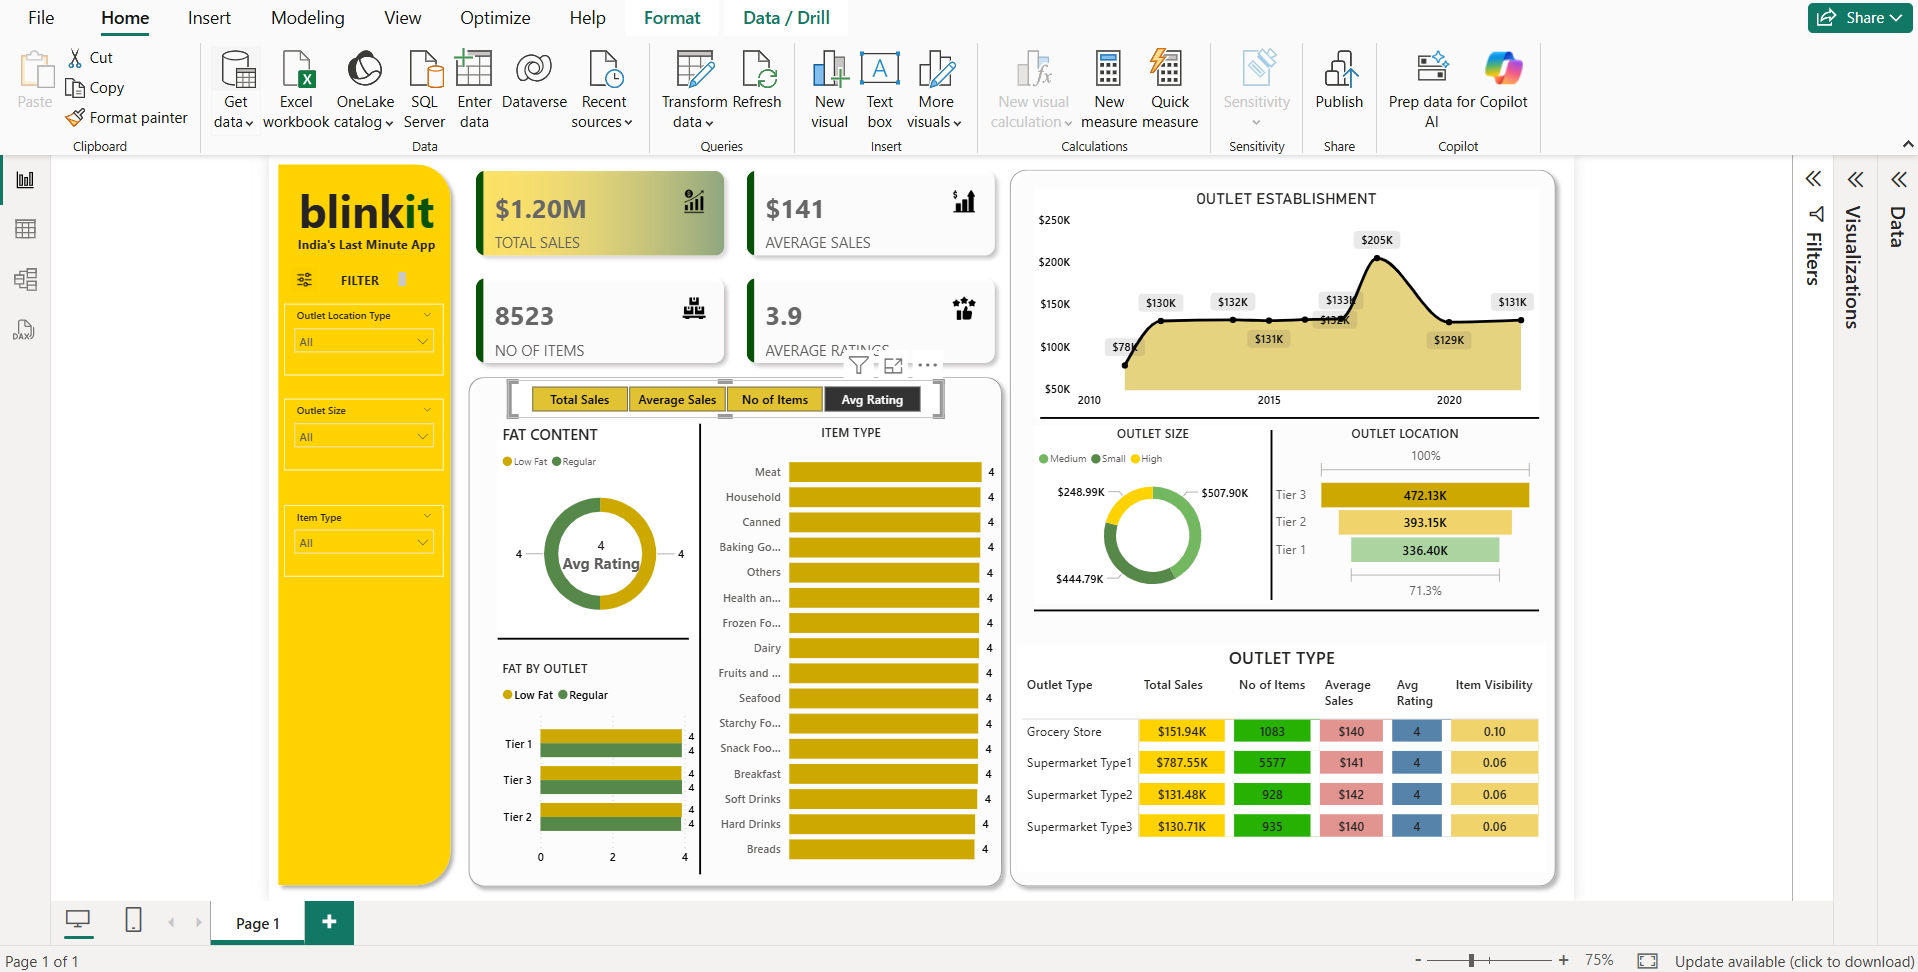

What the dashboard file says about the page in this screenshot:
{"tool":"powerbi","page":{"name":"Page 1","canvas":[1400,800],"ordinal":0},"visuals":[{"type":"shape","box":[0,0,205,793.3],"z":0},{"type":"textbox","box":[18.3,21.7,171.7,75],"z":1000},{"type":"textbox","box":[18.3,81.7,171.7,30],"z":2000},{"type":"cardVisual","fields":{"Data":["BlinkIT Grocery Data.Total Sales","BlinkIT Grocery Data.Average Sales","BlinkIT Grocery Data.No of Items","BlinkIT Grocery Data.Avg Rating"]},"box":[205,0,590,241.7],"z":3000},{"type":"shape","box":[205.1,229.2,589.8,564.3],"z":4000},{"type":"donutChart","title":"FAT CONTENT","fields":{"Y":["BlinkIT Grocery Data.Total Sales"],"Category":["BlinkIT Grocery Data.Item Fat Content"]},"box":[245,288.3,220,230],"z":5000},{"type":"slicer","fields":{"Values":["Metrics.Metrics"]},"box":[256.7,241.7,466.7,40],"z":6000},{"type":"cardVisual","fields":{"Data":["BlinkIT Grocery Data.Total Sales"]},"box":[291.7,375,128.3,106.7],"z":7000},{"type":"clusteredBarChart","title":"FAT BY OUTLET","fields":{"Y":["BlinkIT Grocery Data.Total Sales"],"Category":["BlinkIT Grocery Data.Outlet Location Type"],"Series":["BlinkIT Grocery Data.Item Fat Content"]},"box":[245,541.7,220,230],"z":8000},{"type":"shape","box":[245,511.7,205,13.3],"z":9000},{"type":"shape","box":[373.3,288.3,176.7,483.3],"z":10000},{"type":"barChart","title":"ITEM TYPE","fields":{"Y":["BlinkIT Grocery Data.Total Sales"],"Category":["BlinkIT Grocery Data.Item Type"]},"box":[465,288.3,318.3,483.3],"z":11000},{"type":"shape","box":[785,6.7,603.3,786.7],"z":12000},{"type":"lineChart","title":"OUTLET ESTABLISHMENT","fields":{"Y":["BlinkIT Grocery Data.Total Sales"],"Category":["BlinkIT Grocery Data.Outlet Establishment Year"]},"box":[820.4,36.2,541.6,245.3],"z":13000},{"type":"donutChart","title":"OUTLET SIZE","fields":{"Y":["BlinkIT Grocery Data.Total Sales"],"Category":["BlinkIT Grocery Data.Outlet Size"]},"box":[820,290,255,191.7],"z":14000},{"type":"shape","box":[826.7,245,535,73.3],"z":15000},{"type":"funnel","title":"OUTLET LOCATION","fields":{"Y":["Sum(BlinkIT Grocery Data.Sales)"],"Category":["BlinkIT Grocery Data.Outlet Location Type"]},"box":[1075,290,286.7,191.7],"z":16000},{"type":"shape","box":[924.9,294.9,300.3,182.3],"z":17000},{"type":"shape","box":[820,451.7,541.7,73.3],"z":18000},{"type":"pivotTable","title":"OUTLET TYPE","fields":{"Rows":["BlinkIT Grocery Data.Outlet Type"],"Values":["BlinkIT Grocery Data.Total Sales","BlinkIT Grocery Data.No of Items","BlinkIT Grocery Data.Average Sales","BlinkIT Grocery Data.Avg Rating","Avg(BlinkIT Grocery Data.Item Visibility)"]},"box":[803.3,525,566.7,243.3],"z":19000},{"type":"slicer","fields":{"Values":["BlinkIT Grocery Data.Outlet Location Type"]},"box":[16.1,159.5,171.6,76.4],"z":20000},{"type":"slicer","fields":{"Values":["BlinkIT Grocery Data.Outlet Size"]},"box":[16.1,261.4,171.6,76.4],"z":21000},{"type":"slicer","fields":{"Values":["BlinkIT Grocery Data.Item Type"]},"box":[16.1,375.3,171.6,76.4],"z":22000},{"type":"textbox","box":[52.3,120.6,99.2,30.8],"z":22001},{"type":"image","box":[18.8,107.2,38.9,52.3],"z":22002}]}

Visuals, with their boxes on the page's 1400x800 design canvas (x1, y1, x2, y2). These are canvas units, not pixel positions in the 1918x972 screenshot, which may show the page scaled, cropped or inside an application window:
shape: pyautogui.locateOnScreen(0, 0, 205, 793)
textbox: pyautogui.locateOnScreen(18, 22, 190, 97)
textbox: pyautogui.locateOnScreen(18, 82, 190, 112)
cardVisual - BlinkIT Grocery Data.Total Sales x BlinkIT Grocery Data.Average Sales: pyautogui.locateOnScreen(205, 0, 795, 242)
shape: pyautogui.locateOnScreen(205, 229, 795, 794)
"FAT CONTENT" donutChart: pyautogui.locateOnScreen(245, 288, 465, 518)
slicer - Metrics.Metrics: pyautogui.locateOnScreen(257, 242, 723, 282)
cardVisual - BlinkIT Grocery Data.Total Sales: pyautogui.locateOnScreen(292, 375, 420, 482)
"FAT BY OUTLET" clusteredBarChart: pyautogui.locateOnScreen(245, 542, 465, 772)
shape: pyautogui.locateOnScreen(245, 512, 450, 525)
shape: pyautogui.locateOnScreen(373, 288, 550, 772)
"ITEM TYPE" barChart: pyautogui.locateOnScreen(465, 288, 783, 772)
shape: pyautogui.locateOnScreen(785, 7, 1388, 793)
"OUTLET ESTABLISHMENT" lineChart: pyautogui.locateOnScreen(820, 36, 1362, 282)
"OUTLET SIZE" donutChart: pyautogui.locateOnScreen(820, 290, 1075, 482)
shape: pyautogui.locateOnScreen(827, 245, 1362, 318)
"OUTLET LOCATION" funnel: pyautogui.locateOnScreen(1075, 290, 1362, 482)
shape: pyautogui.locateOnScreen(925, 295, 1225, 477)
shape: pyautogui.locateOnScreen(820, 452, 1362, 525)
"OUTLET TYPE" pivotTable: pyautogui.locateOnScreen(803, 525, 1370, 768)
slicer - BlinkIT Grocery Data.Outlet Location Type: pyautogui.locateOnScreen(16, 160, 188, 236)
slicer - BlinkIT Grocery Data.Outlet Size: pyautogui.locateOnScreen(16, 261, 188, 338)
slicer - BlinkIT Grocery Data.Item Type: pyautogui.locateOnScreen(16, 375, 188, 452)
textbox: pyautogui.locateOnScreen(52, 121, 152, 151)
image: pyautogui.locateOnScreen(19, 107, 58, 160)
